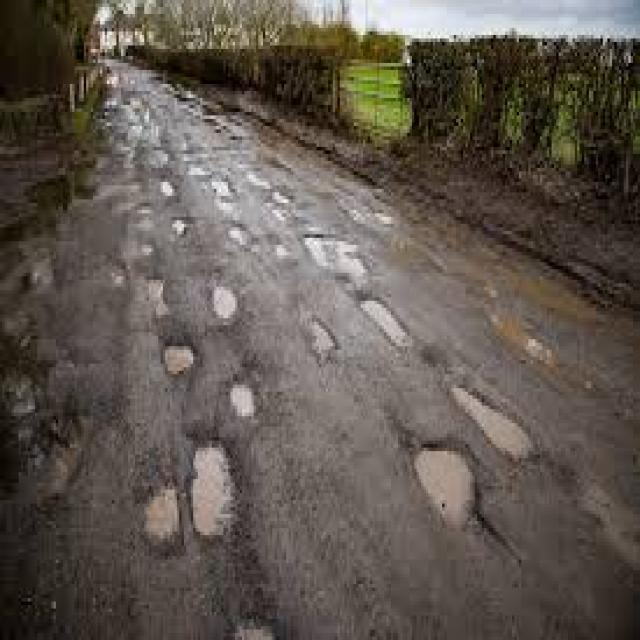pothole: (446, 375, 547, 463), (404, 436, 486, 534), (187, 436, 242, 540), (299, 229, 372, 291), (140, 472, 183, 556), (362, 294, 411, 354), (205, 277, 246, 334), (302, 315, 348, 364), (151, 338, 200, 378), (142, 274, 177, 316), (228, 378, 262, 418), (207, 175, 242, 208), (264, 188, 301, 213), (226, 224, 254, 251), (156, 178, 181, 200), (171, 218, 191, 242), (132, 202, 156, 222), (275, 243, 294, 264), (140, 239, 162, 256)
